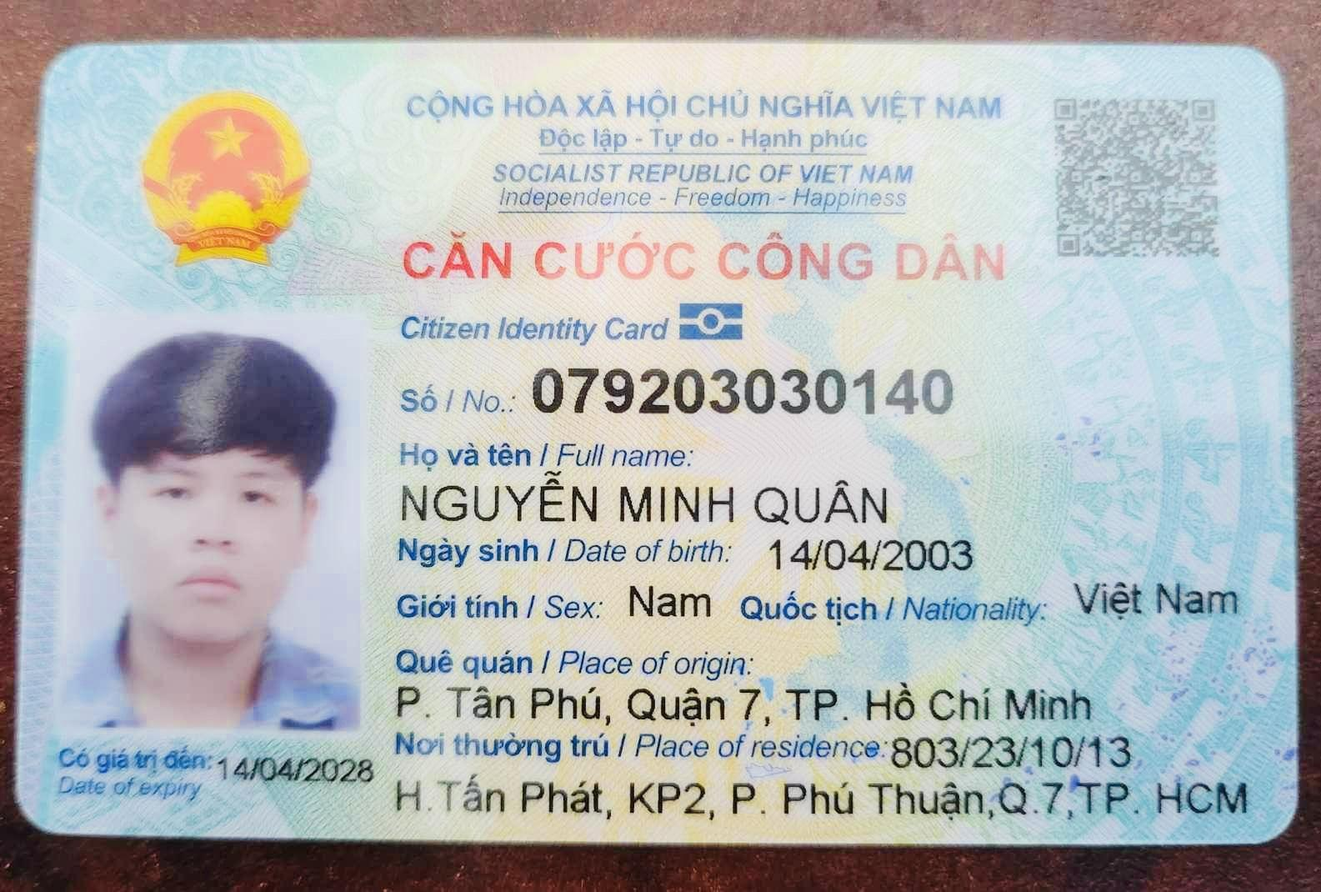ID: (525, 359, 963, 426)
birth: (758, 527, 988, 582)
name: (397, 472, 895, 533)
place: (388, 681, 1116, 729)
residence: (392, 769, 1265, 828), (888, 729, 1143, 777)
